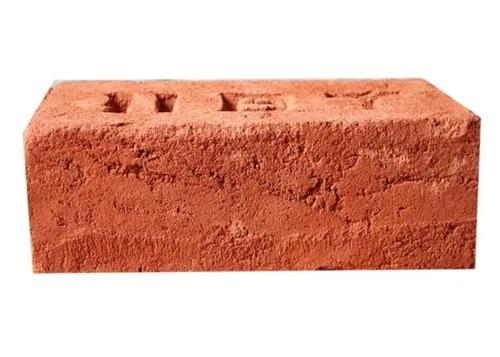brick: (23, 118, 479, 273)
